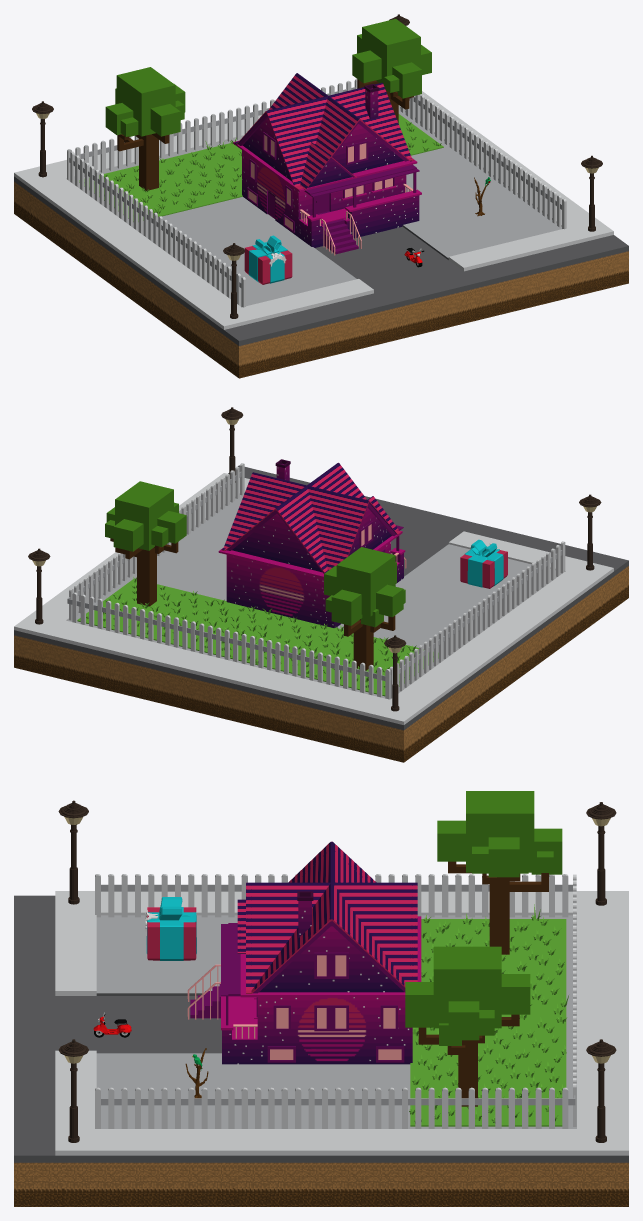
3 renders of one model, top to bottom at view 1: azimuth 30°, elevation 25°; view 2: azimuth 150°, elevation 25°; view 3: azimuth 270°, elevation 25°, orthographic. The views are drawn at different scales.
Parts seen in each view (by area): view 1: Cube.004, Cube.156, OBJRANDOM_GIANT_PRESENT; view 2: Cube.004, Cube.156, OBJRANDOM_GIANT_PRESENT; view 3: Cube.004, Cube.156, OBJRANDOM_GIANT_PRESENT.
Boxes of the visible parts, <box> form: Cube.004: <box>14,14,628,378</box>; Cube.156: <box>233,73,421,255</box>; OBJRANDOM_GIANT_PRESENT: <box>244,235,292,284</box>; Cube.004: <box>14,407,628,762</box>; Cube.156: <box>218,459,406,627</box>; OBJRANDOM_GIANT_PRESENT: <box>460,539,507,588</box>; Cube.004: <box>14,791,628,1206</box>; Cube.156: <box>187,841,421,1064</box>; OBJRANDOM_GIANT_PRESENT: <box>145,897,196,960</box>.
Bounding box in the file's own units: 4000 × 1600 × 4000.
34 materials, 5 textured.
